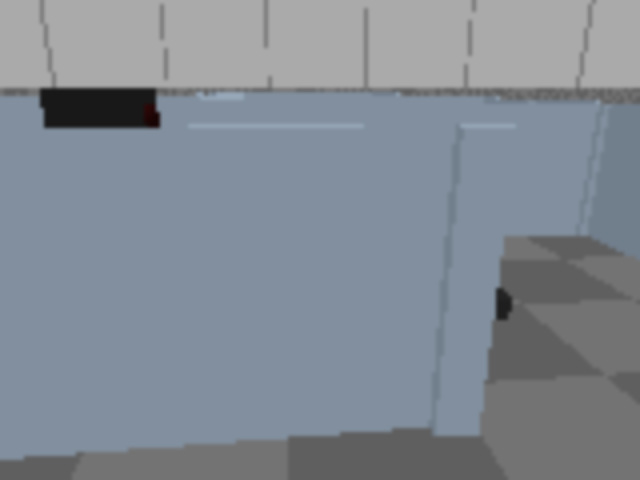puck: (482, 289, 512, 319)
